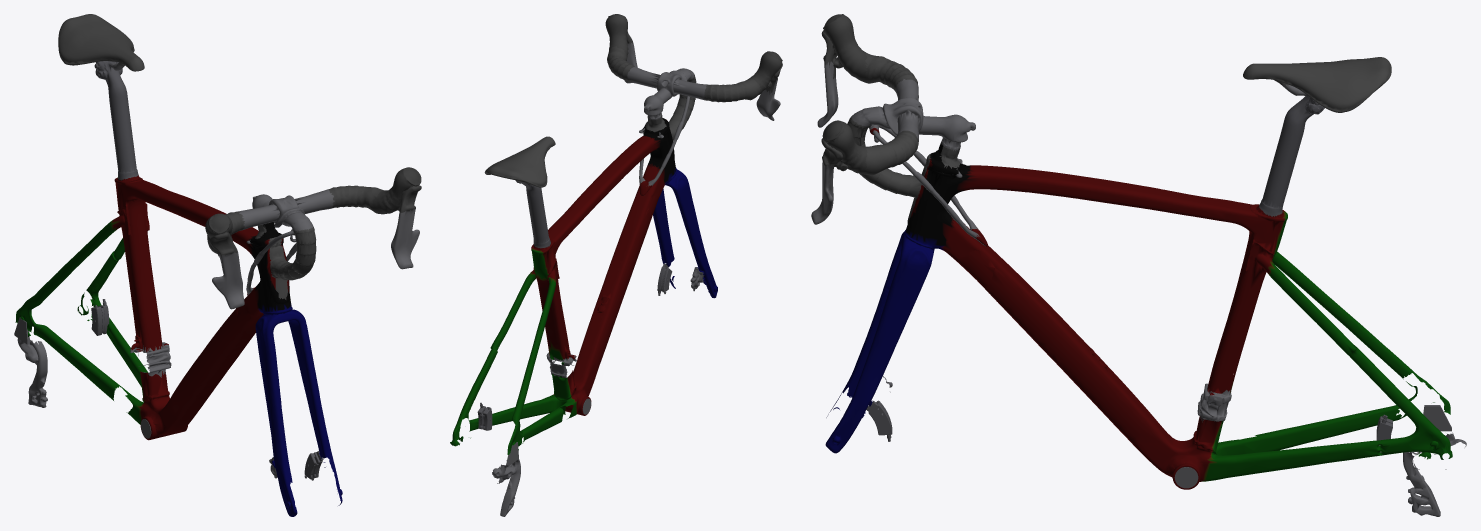
Rendered from roubaix54_lod0.glb.
3 views of the same model, side by side, from view 1: azimuth 30°, elevation 25°; view 2: azimuth 150°, elevation 25°; view 3: azimuth 270°, elevation 25° (orthographic). The views are drawn at different scales.
Visible parts, largest first — view 1: frame, cockpit, fork, saddle, seatpost, etrier_arriere; view 2: frame, cockpit, fork, saddle, seatpost; view 3: frame, cockpit, fork, saddle, seatpost.
Boxes of the visible parts, x1,y1,x2,y2 form: frame: [14, 175, 316, 440]; cockpit: [205, 167, 421, 309]; fork: [236, 301, 342, 516]; saddle: [58, 14, 144, 135]; seatpost: [113, 132, 138, 180]; etrier_arriere: [91, 299, 109, 335]; frame: [450, 74, 696, 516]; cockpit: [605, 14, 782, 120]; fork: [632, 167, 717, 298]; saddle: [484, 136, 555, 216]; seatpost: [530, 212, 550, 248]; frame: [847, 116, 1466, 516]; cockpit: [811, 14, 975, 224]; fork: [825, 225, 998, 453]; saddle: [1243, 57, 1391, 166]; seatpost: [1259, 162, 1294, 216].
Size of the model in its own units: 0.475 by 0.8531 by 1.09.
